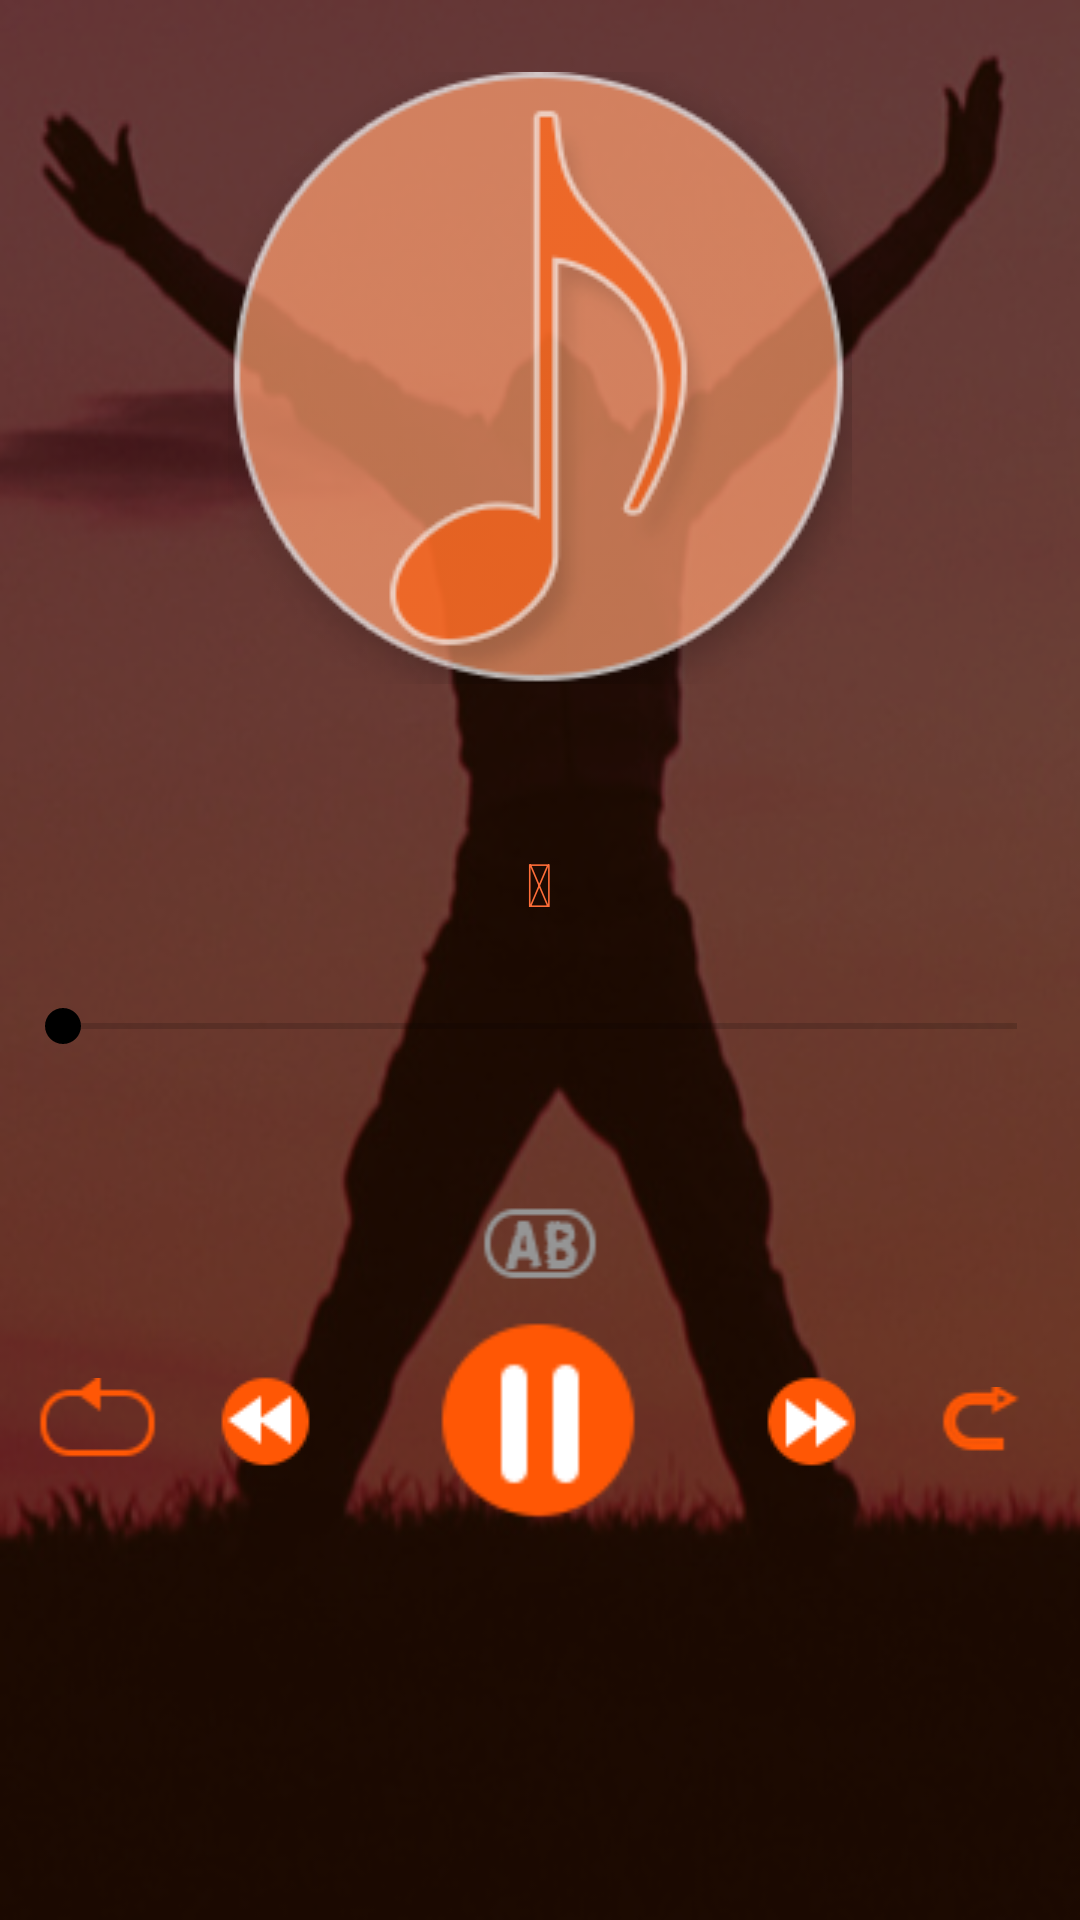

Icon click points for this 1080w x 1920h phone screenshot, format (x=x, y=y):
next: (x=813, y=1421)
previous: (x=267, y=1421)
repeat all: (x=97, y=1417)
